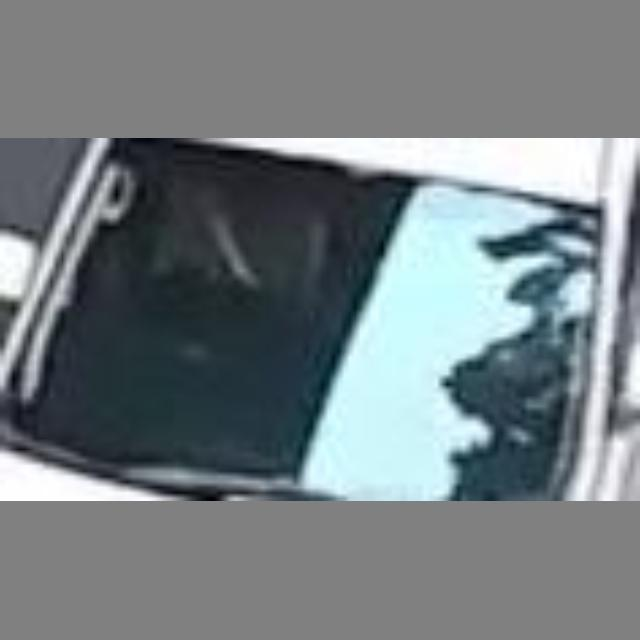pakai: (141, 171, 315, 317)
